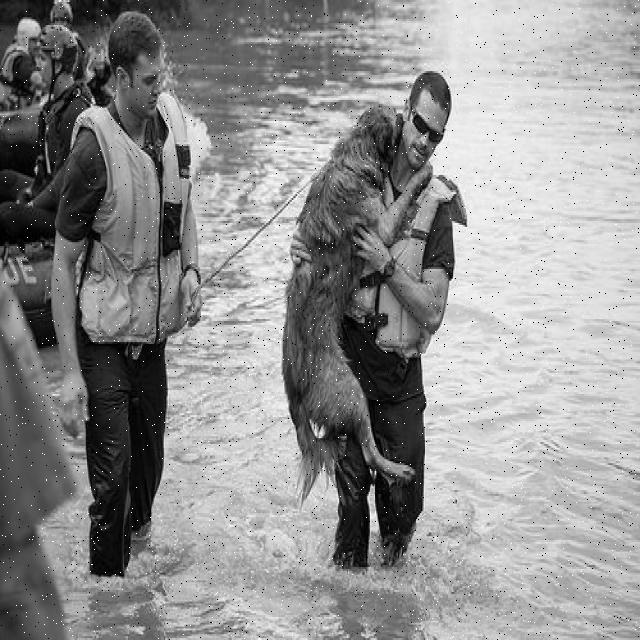rescuer: (91, 4, 190, 606), (384, 66, 454, 586)
